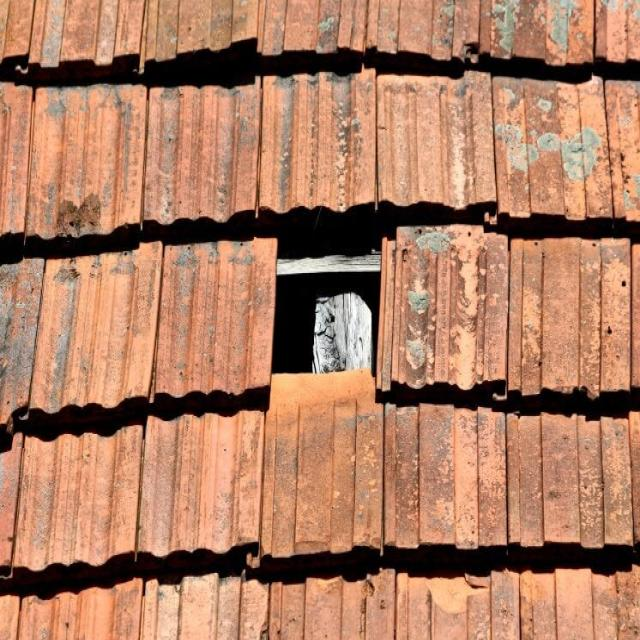damage: (255, 183, 399, 407)
